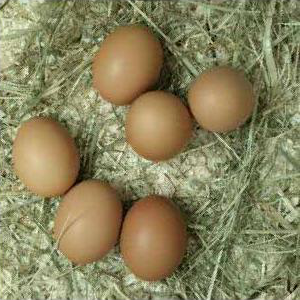egg: (121, 195, 187, 281), (54, 180, 121, 264), (93, 26, 164, 104), (13, 117, 80, 197), (127, 92, 192, 161), (187, 67, 255, 132)
